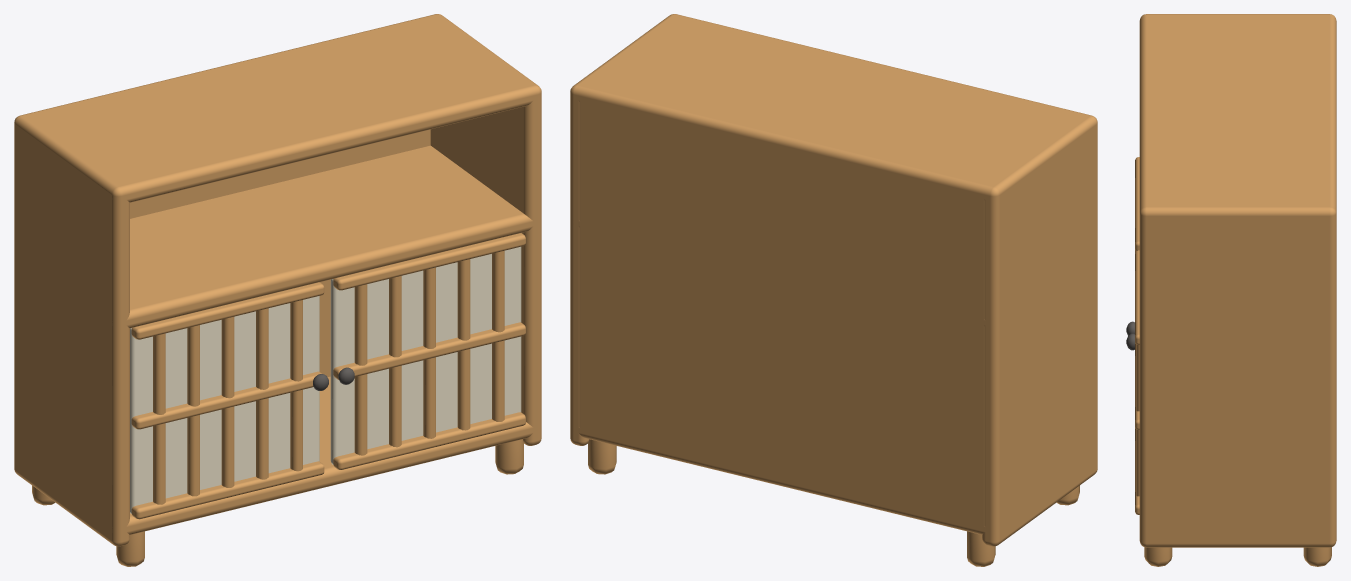
File: lattice_cabinet.glb
3 renders of one model, left to right at view 1: azimuth 30°, elevation 25°; view 2: azimuth 150°, elevation 25°; view 3: azimuth 270°, elevation 25°, orthographic. The views are drawn at different scales.
Parts seen in each view (by area): view 1: lattice_cabinet_mesh; view 2: lattice_cabinet_mesh; view 3: lattice_cabinet_mesh.
Boxes of the visible parts, box(x1,y1,x2,y2) form: lattice_cabinet_mesh: box(14, 14, 541, 566); lattice_cabinet_mesh: box(570, 14, 1097, 566); lattice_cabinet_mesh: box(1126, 14, 1336, 566).
Bounding box in the file's own units: 1 × 0.86 × 0.4482.
